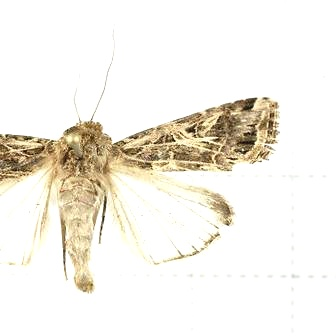Spodoptera litura: (1, 24, 281, 293)
